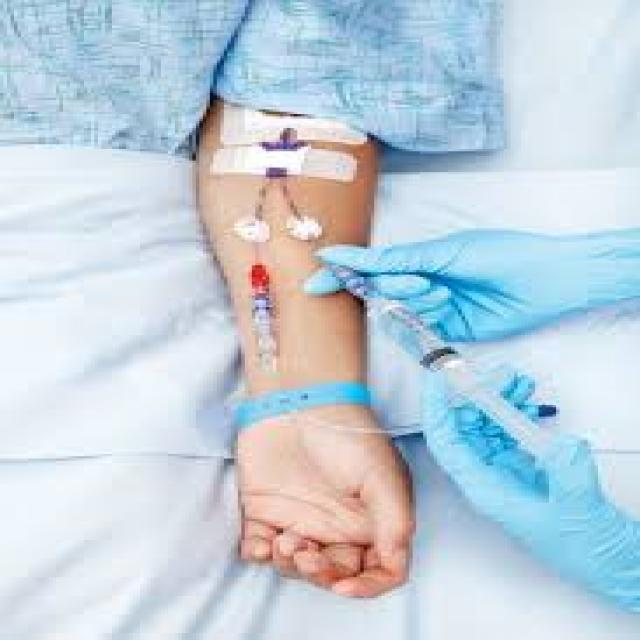syringe: (223, 118, 593, 487)
